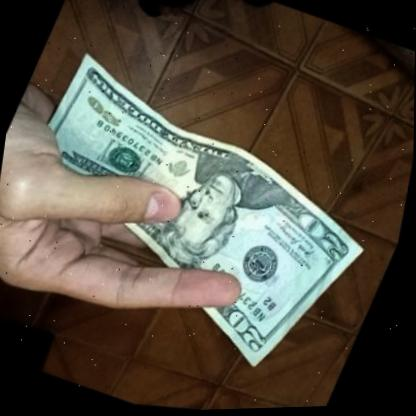dollar_front: (0, 43, 415, 406)
